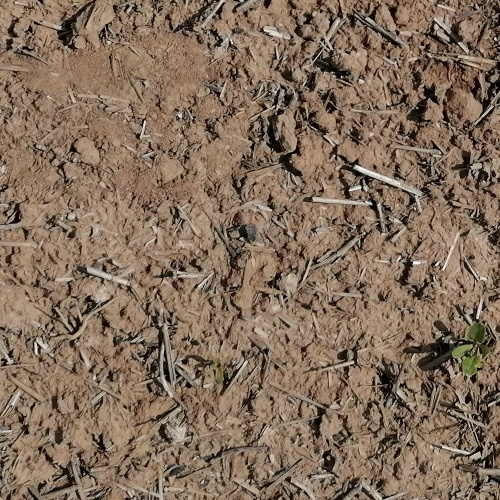beet: (450, 321, 495, 376), (209, 356, 226, 384)
